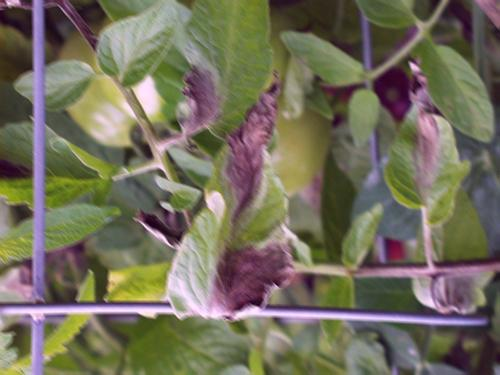Tomato leaf late blight: (161, 74, 297, 322), (161, 0, 295, 148), (371, 56, 479, 227)
